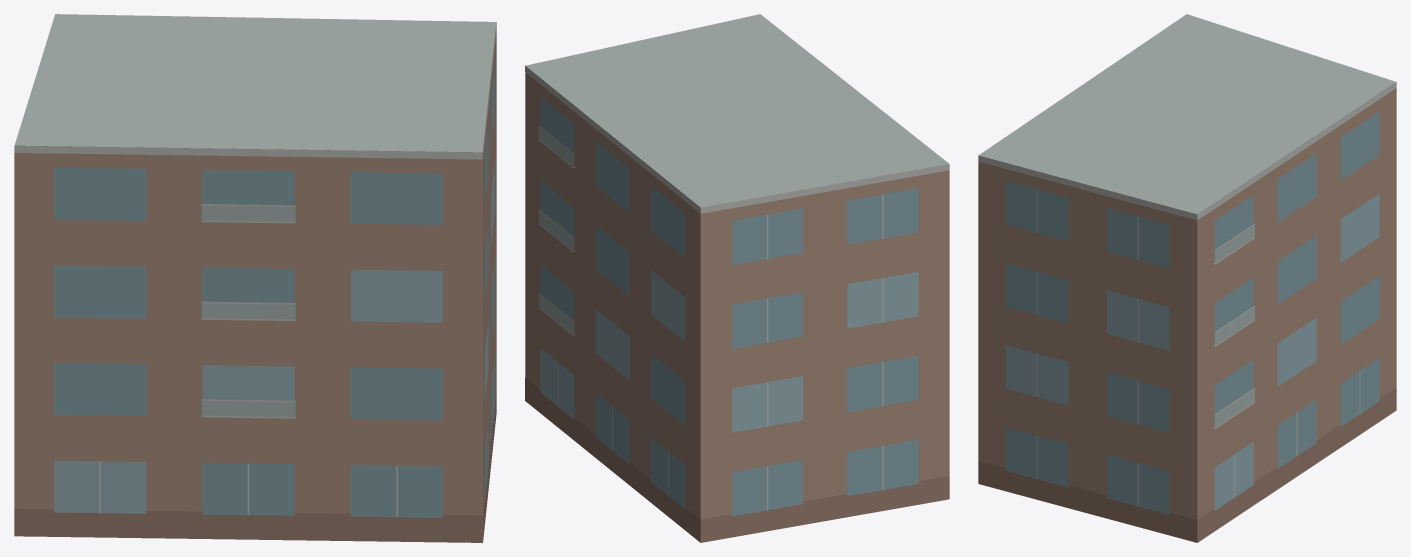
Rendered from survey-upis-32888668.glb.
The picture shows the model from 3 angles, left to right: view 1: azimuth 30°, elevation 25°; view 2: azimuth 150°, elevation 25°; view 3: azimuth 270°, elevation 25°; orthographic projection. The views are drawn at different scales.
Visible parts, largest first — view 1: survey-upis-32888668.tmp; view 2: survey-upis-32888668.tmp; view 3: survey-upis-32888668.tmp.
Part boxes in pixels (x1,y1,x2,y2): survey-upis-32888668.tmp: (14,14,496,542); survey-upis-32888668.tmp: (525,14,949,542); survey-upis-32888668.tmp: (978,14,1396,542).
Size of the model in its own units: 17.15 by 13.1 by 15.12.
